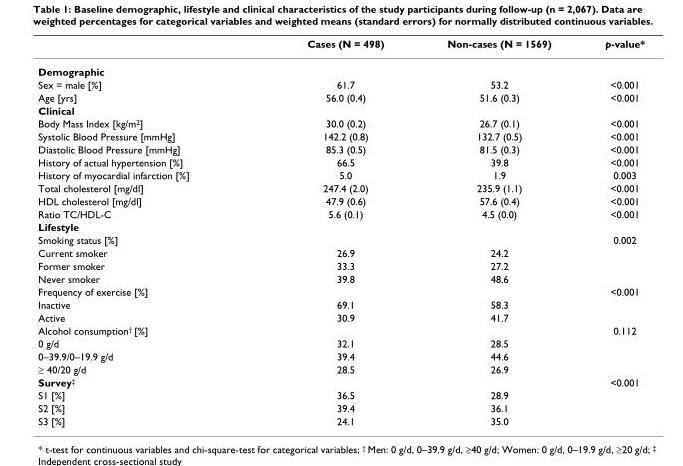table: (37, 37, 644, 426)
table column: (37, 37, 247, 426), (247, 37, 414, 426), (414, 37, 577, 426), (577, 37, 644, 426)
table column header: (37, 37, 644, 57)
table projected row header: (37, 57, 644, 77), (37, 103, 644, 116), (37, 220, 644, 233)
table row: (37, 37, 644, 57), (37, 57, 644, 77), (37, 361, 644, 375), (37, 77, 644, 90), (37, 90, 644, 103), (37, 103, 644, 116), (37, 116, 644, 129), (37, 129, 644, 142), (37, 142, 644, 155), (37, 155, 644, 168), (37, 168, 644, 181), (37, 181, 644, 194), (37, 194, 644, 207), (37, 207, 644, 220), (37, 220, 644, 233), (37, 245, 644, 258), (37, 258, 644, 271), (37, 271, 644, 284), (37, 284, 644, 297), (37, 297, 644, 310), (37, 310, 644, 323), (37, 323, 644, 336), (37, 336, 644, 349), (37, 375, 644, 388), (37, 388, 644, 401), (37, 401, 644, 414), (37, 233, 644, 245), (37, 349, 644, 361), (37, 414, 644, 426)
